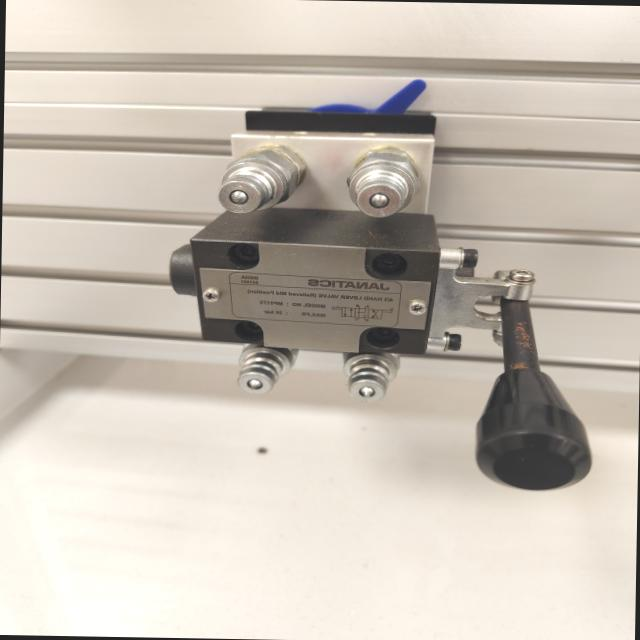4by3 hand lever valve: (155, 76, 602, 498)
